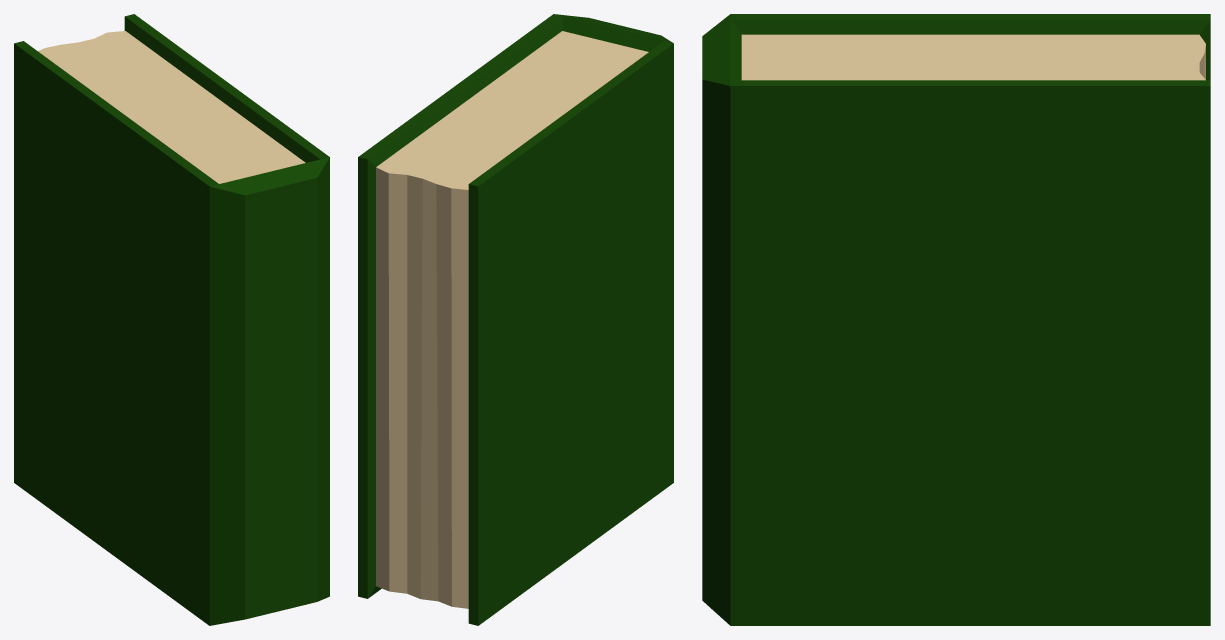
Rendered from Book_Green.fbx.
3 renders of one model, left to right at view 1: azimuth 30°, elevation 25°; view 2: azimuth 150°, elevation 25°; view 3: azimuth 270°, elevation 25°, orthographic. The views are drawn at different scales.
Visible parts, largest first — view 1: Book.009; view 2: Book.009; view 3: Book.009.
Part boxes in pixels (x1,y1,x2,y2): Book.009: (14,14,329,625); Book.009: (358,14,673,625); Book.009: (702,14,1210,625).
Size of the model in its own units: 23.95 by 83.59 by 71.37.
